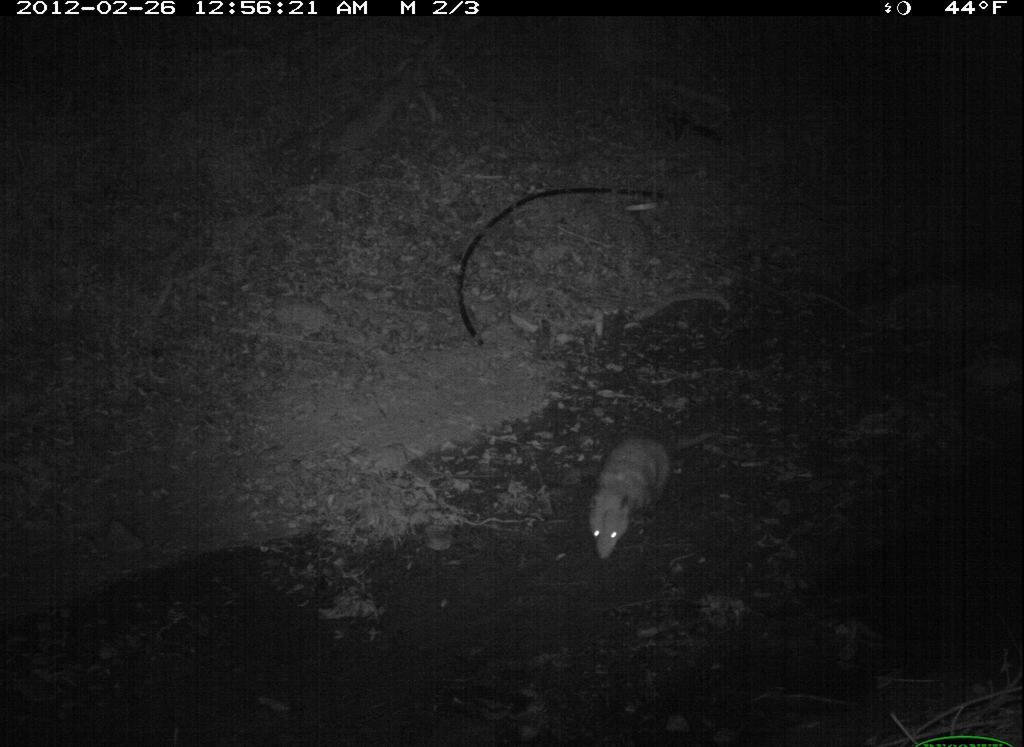opossum: (582, 428, 693, 571)
